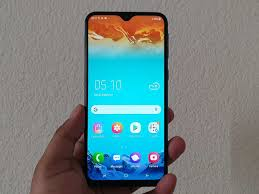samsung: (82, 9, 168, 186)
